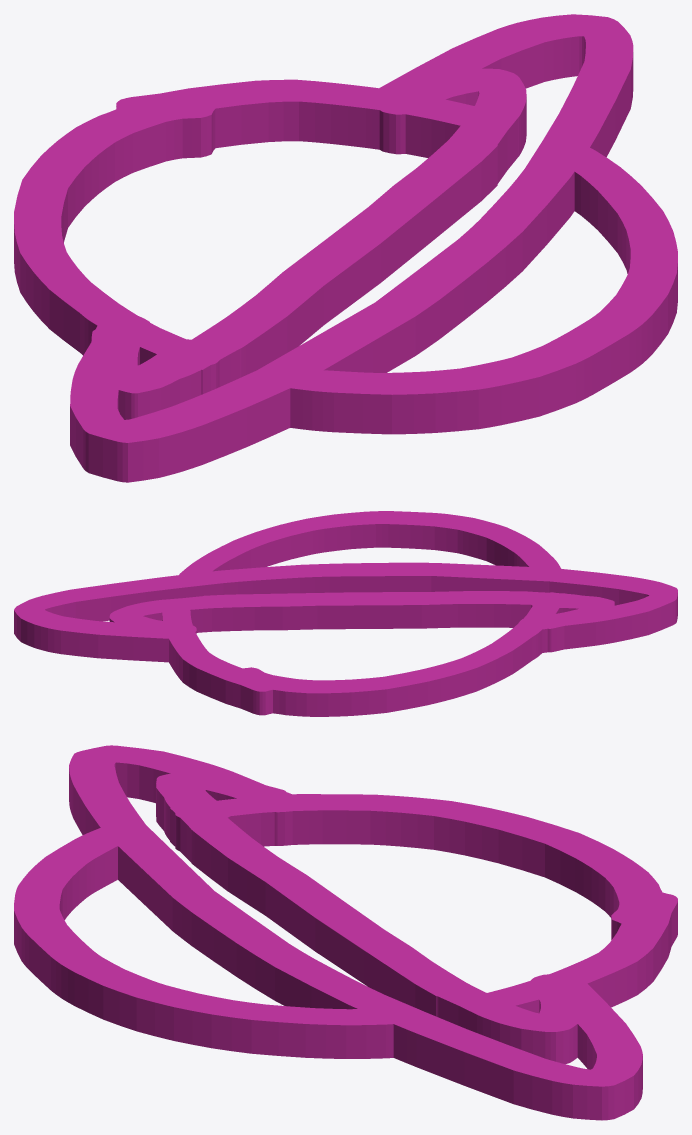
File: planet.glb
3 renders of one model, top to bottom at view 1: azimuth 30°, elevation 25°; view 2: azimuth 150°, elevation 25°; view 3: azimuth 270°, elevation 25°, orthographic. The views are drawn at different scales.
Parts seen in each view (by area): view 1: Mesh_Mesh_head_geo.001_lambert2SG.001; view 2: Mesh_Mesh_head_geo.001_lambert2SG.001; view 3: Mesh_Mesh_head_geo.001_lambert2SG.001.
Part boxes in pixels (<box>): Mesh_Mesh_head_geo.001_lambert2SG.001: <box>14,14,677,482</box>; Mesh_Mesh_head_geo.001_lambert2SG.001: <box>14,511,677,716</box>; Mesh_Mesh_head_geo.001_lambert2SG.001: <box>14,745,677,1120</box>.
Size of the model in its own units: 0.0541 by 0.0025 by 0.0445.
